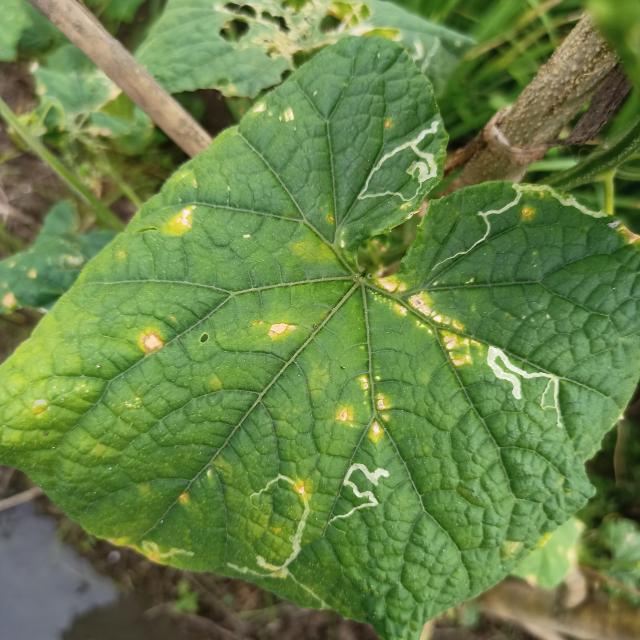disease_cucumber: (376, 274, 487, 369), (332, 375, 394, 444), (250, 317, 300, 348), (162, 200, 195, 240), (250, 101, 298, 125), (136, 330, 169, 359), (522, 208, 538, 221)
